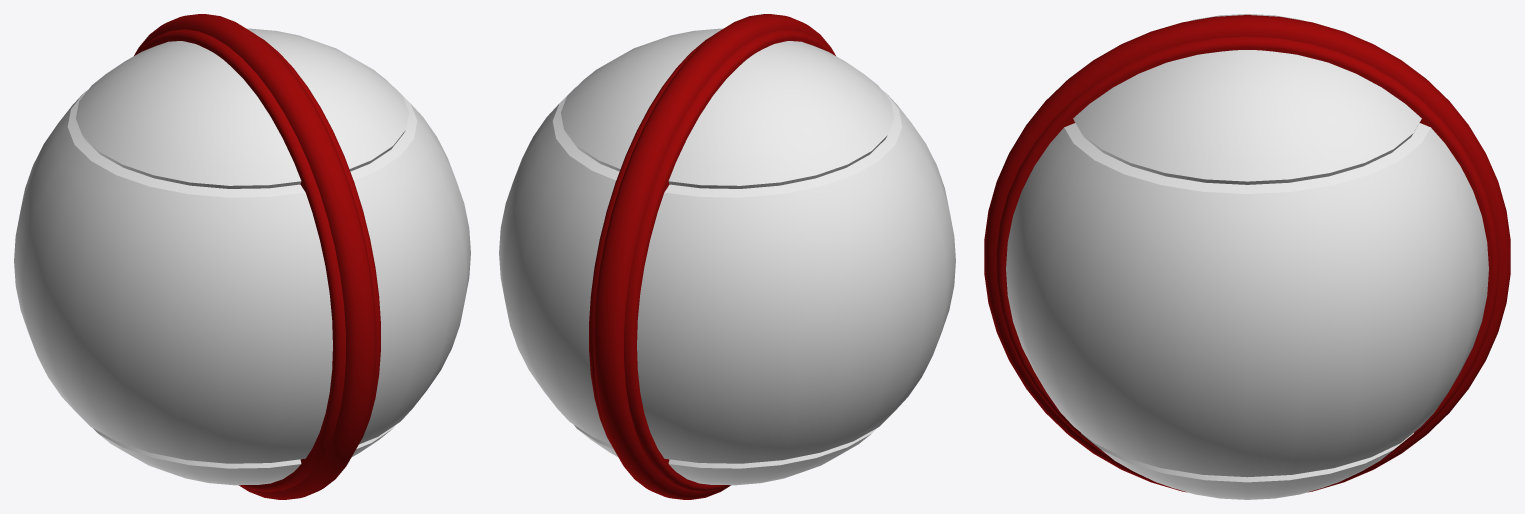
The model's file is SM_PinBot.fbx.
3 views of the same model, side by side, from view 1: azimuth 30°, elevation 25°; view 2: azimuth 150°, elevation 25°; view 3: azimuth 270°, elevation 25° (orthographic). The views are drawn at different scales.
Parts seen in each view (by area): view 1: Ball; view 2: Ball; view 3: Ball.
Boxes of the visible parts, bbox=[...] form: Ball: bbox=[14, 14, 470, 499]; Ball: bbox=[499, 14, 955, 499]; Ball: bbox=[984, 14, 1510, 499].
Size of the model in its own units: 1.38 by 1.5 by 1.5.
